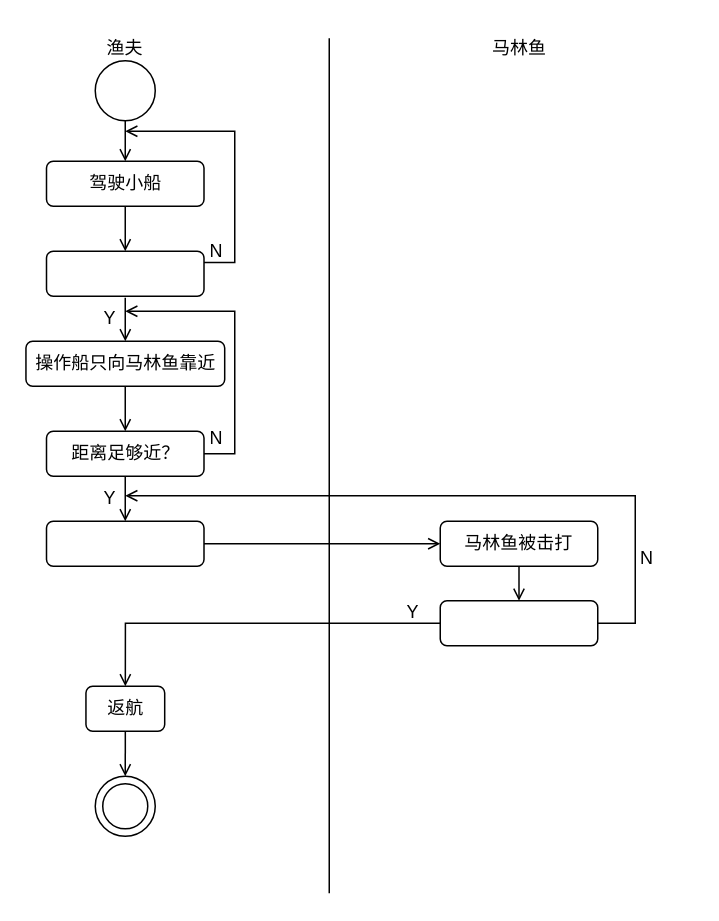
This 719x921 diagram has some shape labels left out. Each missing label, with the centre of its shape:
捕捉马林鱼: point 124,543
看到马林鱼？: point 124,273
血量为0？: point 518,622
